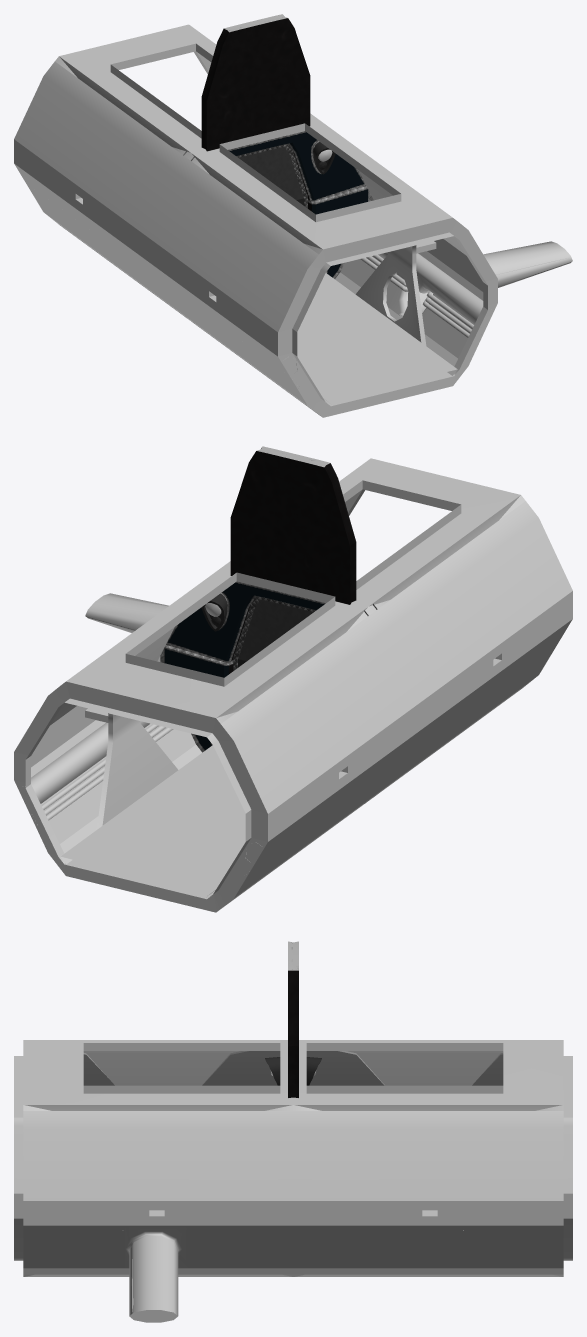
File: Small_Corridor_Door_Vent (3).fbx
The picture shows the model from 3 angles, top to bottom: view 1: azimuth 30°, elevation 25°; view 2: azimuth 150°, elevation 25°; view 3: azimuth 270°, elevation 25°; orthographic projection. The views are drawn at different scales.
Visible parts, largest first — view 1: Small Corridor Vent, Corridor Door Door; view 2: Small Corridor Vent, Corridor Door Door; view 3: Small Corridor Vent.
Part boxes in pixels (x1=…): Small Corridor Vent: x1=14, y1=14, x2=572, y2=417; Corridor Door Door: x1=236, y1=144, x2=307, y2=208; Small Corridor Vent: x1=14, y1=446, x2=572, y2=912; Corridor Door Door: x1=233, y1=596, x2=315, y2=670; Small Corridor Vent: x1=14, y1=941, x2=572, y2=1322.
Size of the model in its own units: 7.32 by 5.7 by 10.
